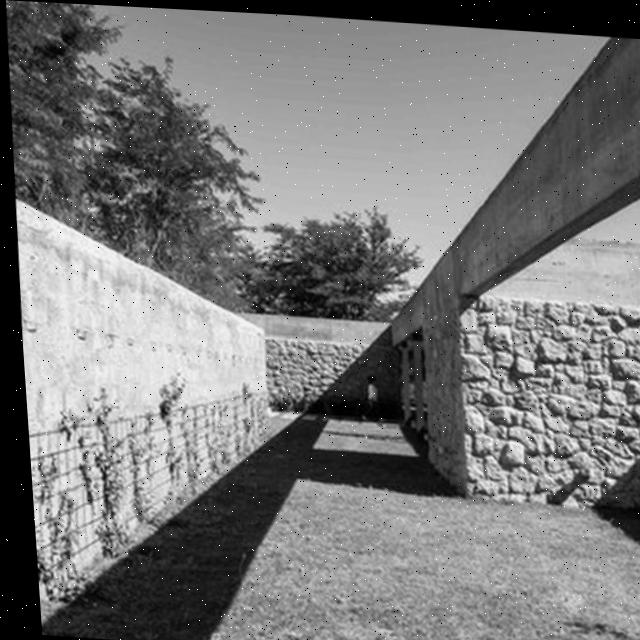building: (244, 13, 640, 511), (13, 199, 285, 614)
